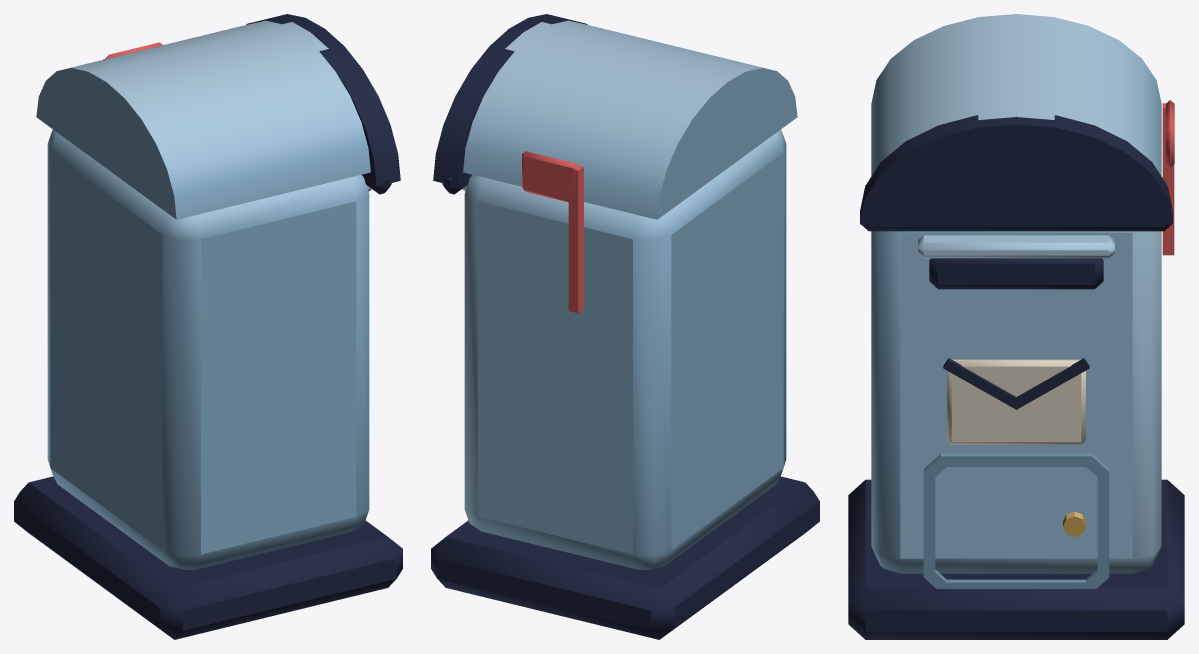
The model's file is mailbox.glb.
The picture shows the model from 3 angles, left to right: view 1: azimuth 30°, elevation 25°; view 2: azimuth 150°, elevation 25°; view 3: azimuth 270°, elevation 25°; orthographic projection. The views are drawn at different scales.
Parts seen in each view (by area): view 1: Mailbox; view 2: Mailbox; view 3: Mailbox.
Boxes of the visible parts, <box> form: Mailbox: <box>14,14,402,639</box>; Mailbox: <box>431,14,819,639</box>; Mailbox: <box>848,14,1184,639</box>.
Bounding box in the file's own units: 0.5556 × 1.1 × 0.6444.
